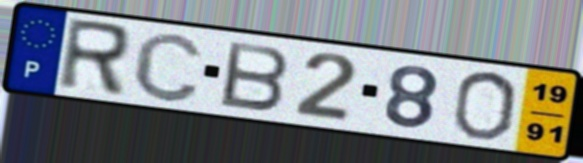2: (292, 51, 362, 125)
8: (384, 63, 440, 130)
B: (218, 38, 293, 114)
C: (129, 29, 206, 105)
O: (448, 69, 521, 142)
R: (54, 16, 134, 100)
